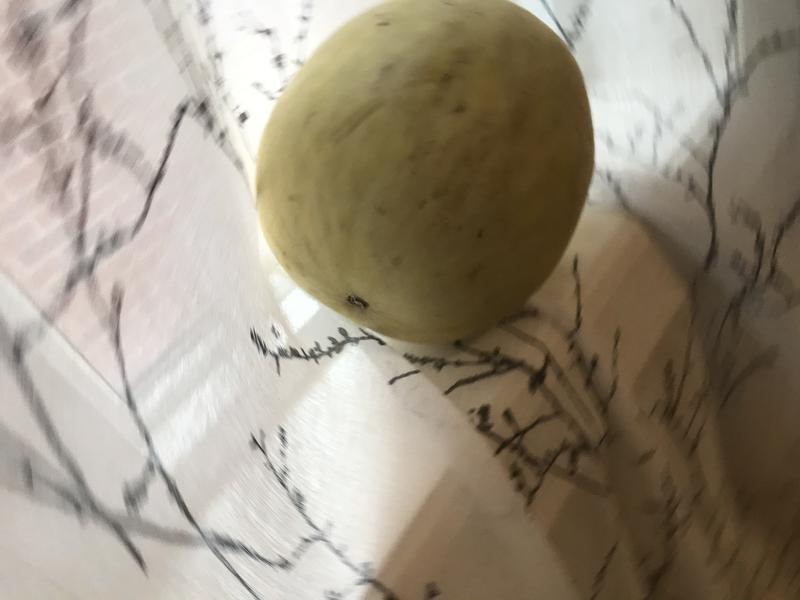honeydew: (232, 1, 605, 352)
